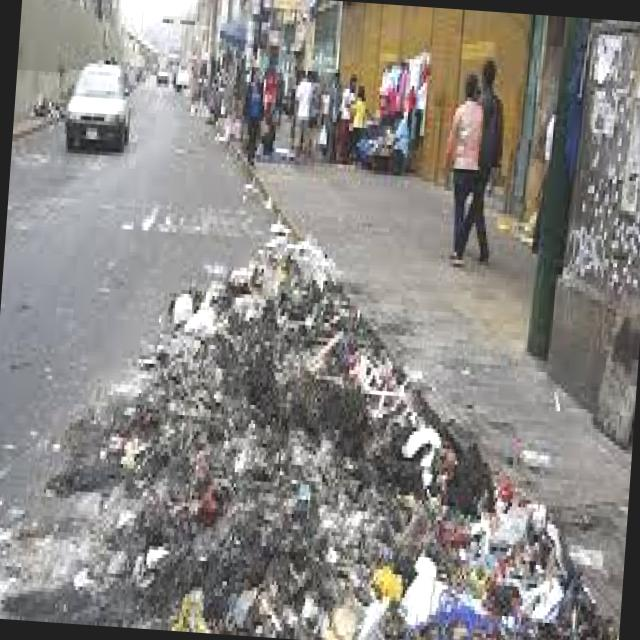garbage: (59, 189, 597, 640)
